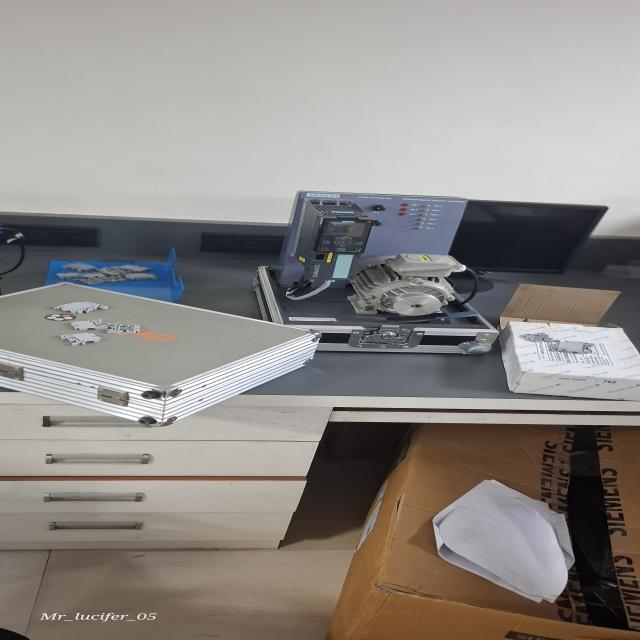Inverted: (54, 330, 104, 348), (69, 317, 109, 332)
Pass: (104, 322, 145, 335)
Reject: (522, 332, 561, 344)
